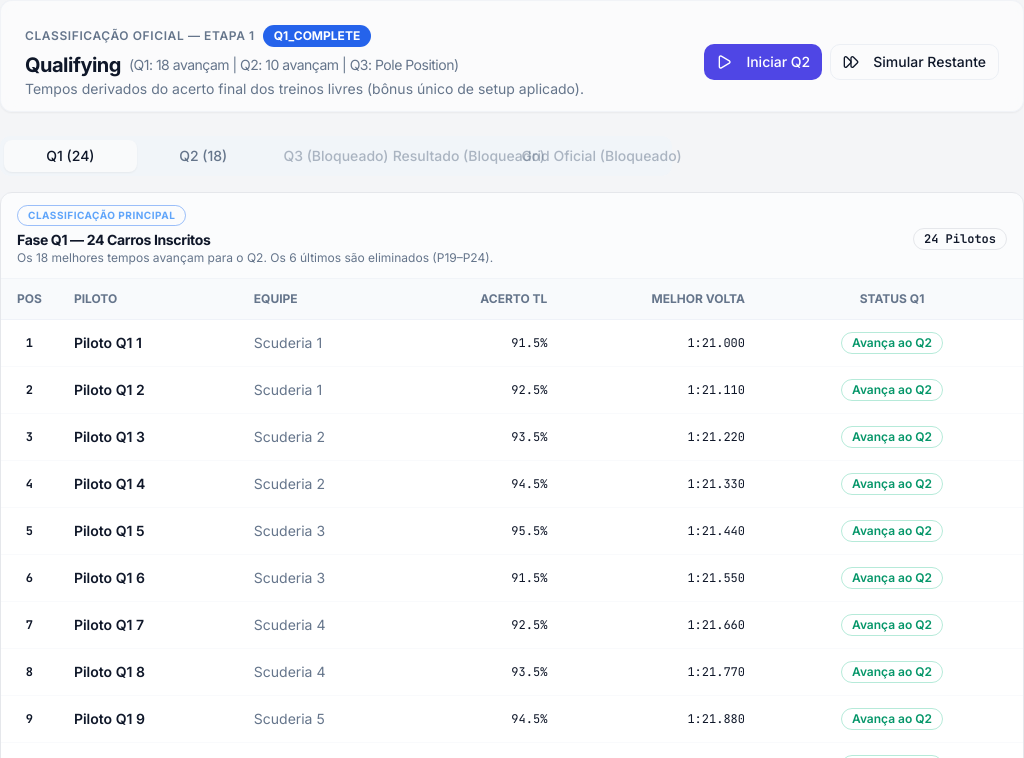
Test: RACE-QUALI-01B-UI-CONSOLIDATE — Generalização e Conexão de Q1, Q2 e Q3 › UI-Q2-04 — NOT RUN: Q2 não realizada mostra estado correto
Check: the text "Fase Q1 — 24 Carros Inscritos" is shown, box 17,230 -> 210,250
What coordinates should you click on to do the following:
click the tab "Q2 (18)"
I would click on:
 (203, 156)
Its box is 137,140 -> 270,172.
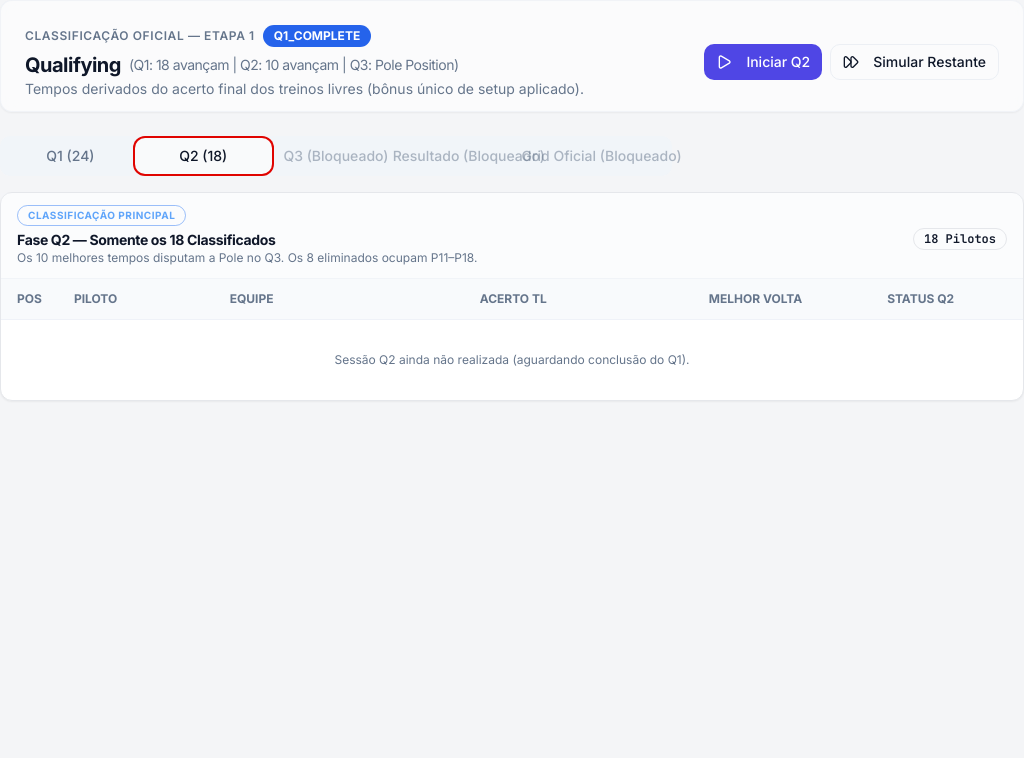
Check: the text "Sessão Q2 ainda não realizada (aguardando conclusão do Q1)." is shown, box 1,320 -> 1023,400
